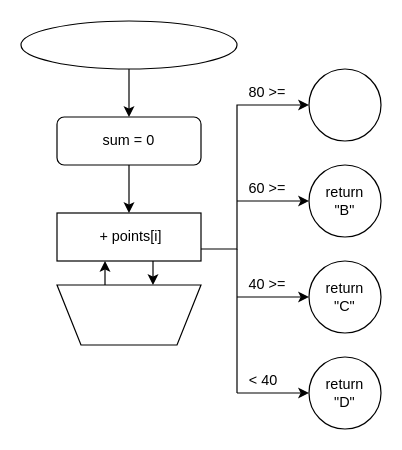
Some shapes in this 402 by 450 pixel diagram are drawn without their labels. Here are the shapes that lost their labels. From the top down, the centre of each, then its label:
point 128,44: get_achievement
point 344,104: return "A"
point 128,314: i = 0 i < number i++
